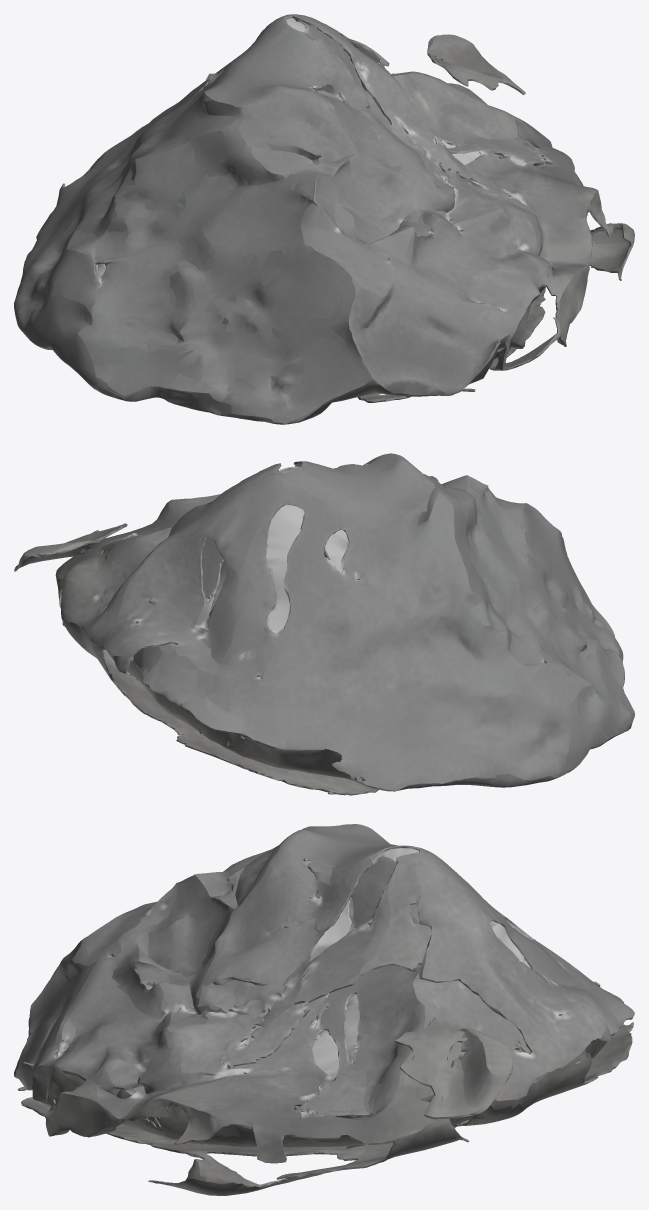
3 renders of one model, top to bottom at view 1: azimuth 30°, elevation 25°; view 2: azimuth 150°, elevation 25°; view 3: azimuth 270°, elevation 25°, orthographic. The views are drawn at different scales.
Parts seen in each view (by area): view 1: world; view 2: world; view 3: world.
Boxes of the visible parts, x1,y1,x2,y2 form: world: (14,14,634,424); world: (14,453,634,795); world: (14,824,634,1195).
Size of the model in its own units: 0.45 by 0.2099 by 0.448.
1 material, 1 textured.
